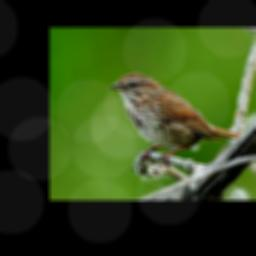Sparrow: (106, 71, 256, 168)
